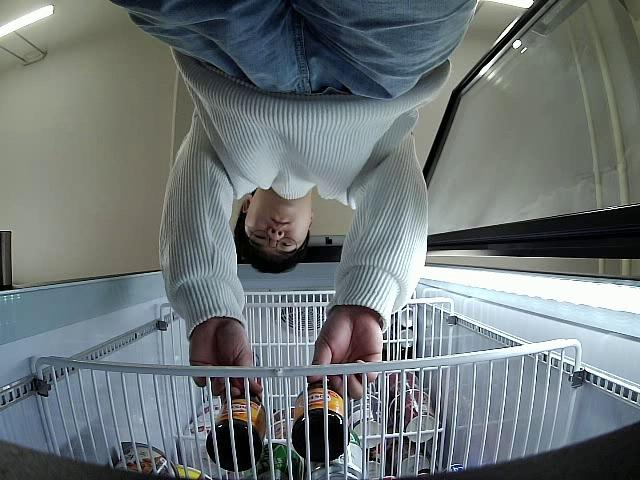00_hand: (307, 320, 383, 399), (189, 323, 265, 397)
17_vita500: (207, 388, 267, 471), (293, 379, 352, 463)
